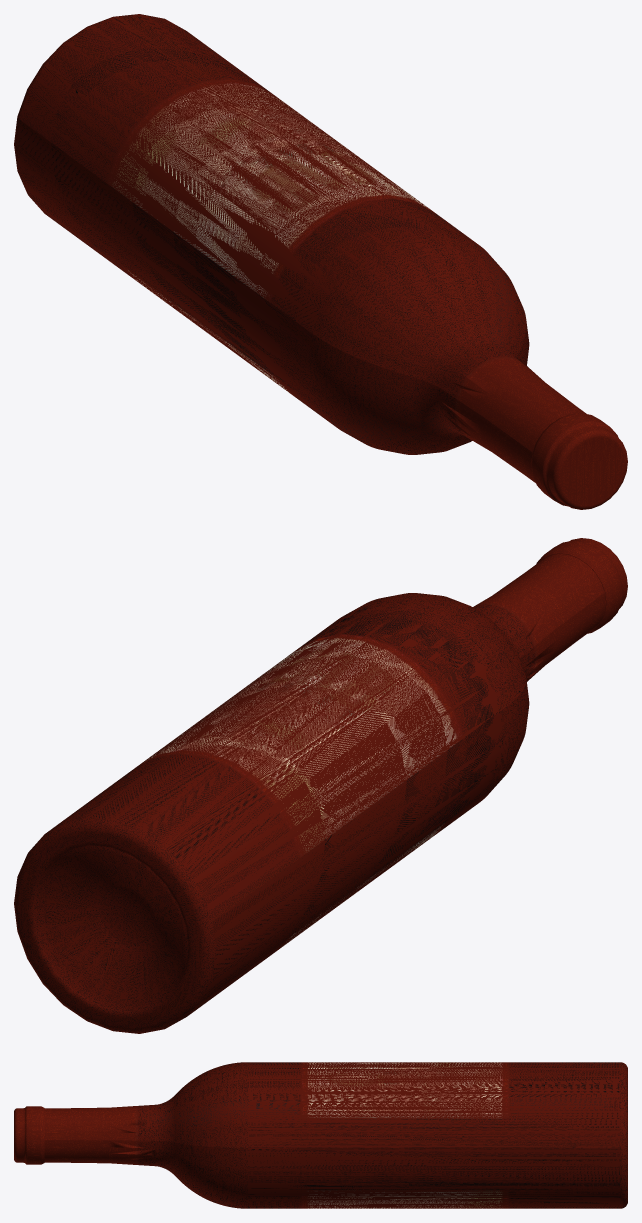
File: bottle.obj
3 views of the same model, one above another, from view 1: azimuth 30°, elevation 25°; view 2: azimuth 150°, elevation 25°; view 3: azimuth 270°, elevation 25° (orthographic). The views are drawn at different scales.
Bounding box in the file's own units: 0.0862 × 0.0862 × 0.3596.
1 material, 1 textured.
